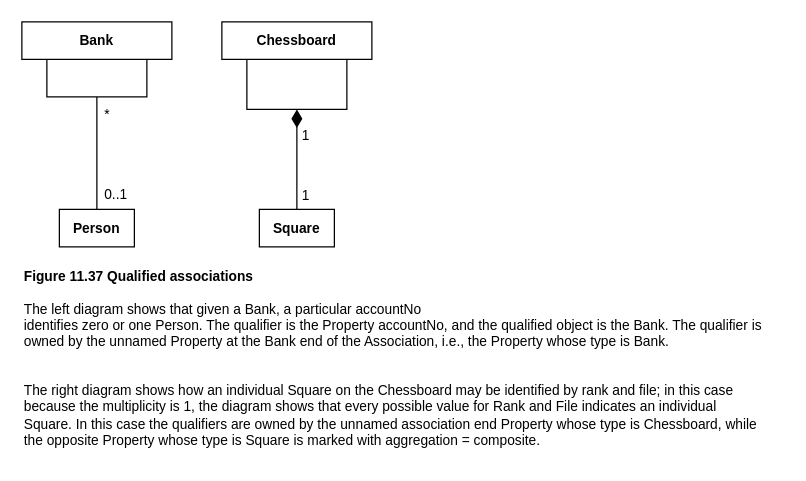
This 806x481 diagram has some shape labels left out. The box of each missing label's shape, as (x1, y1, x2, y2) in pixels:
accountNo: (46, 58, 147, 97)
rank : Rank file: File: (246, 58, 347, 109)
